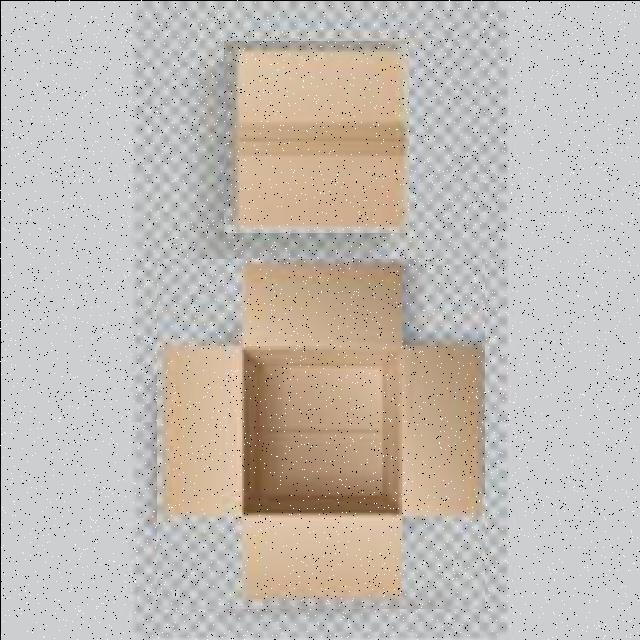defect: (156, 258, 484, 608)
normal: (223, 40, 408, 232)
